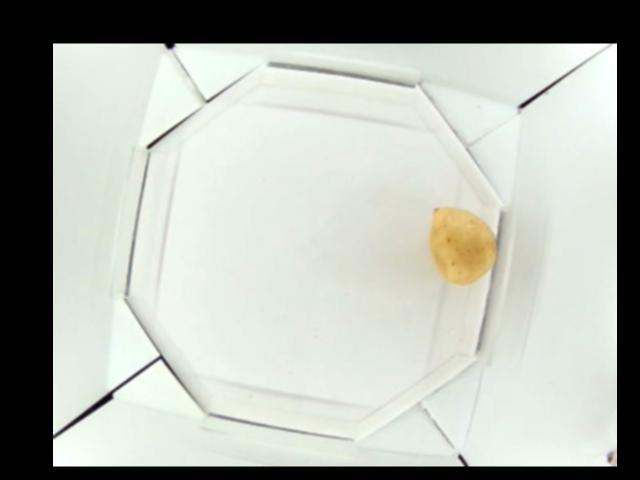Potato: (431, 203, 500, 283)
